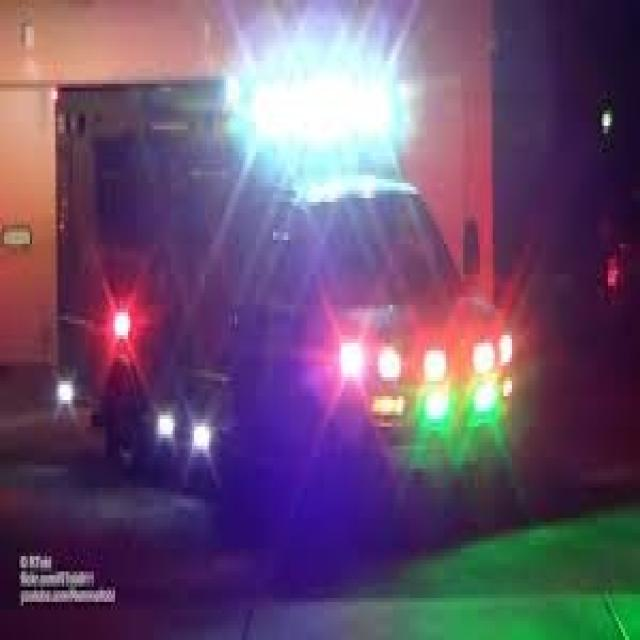ambulance: (213, 32, 440, 193), (320, 318, 536, 444), (102, 254, 152, 402)
